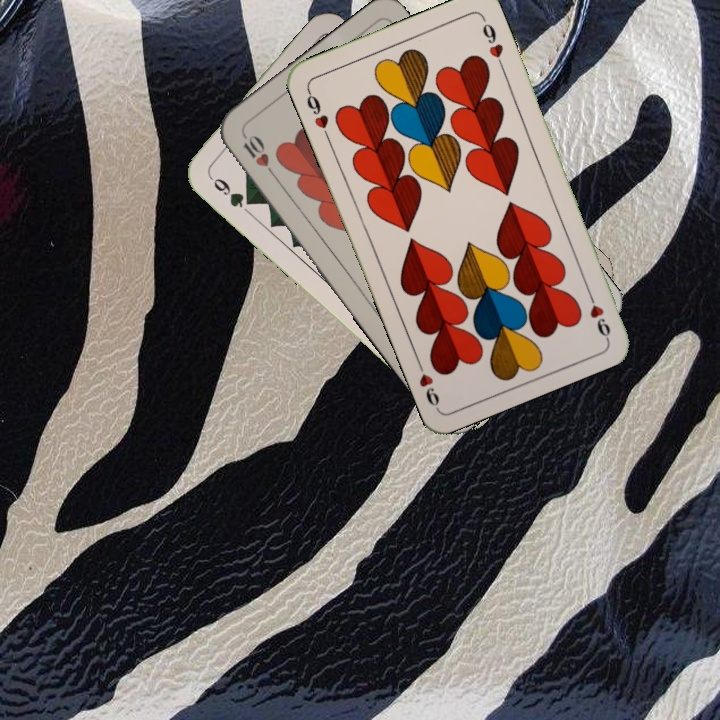G9: (204, 170, 257, 211)
H10: (239, 129, 279, 181)
H9: (582, 284, 613, 341), (302, 85, 332, 141)
